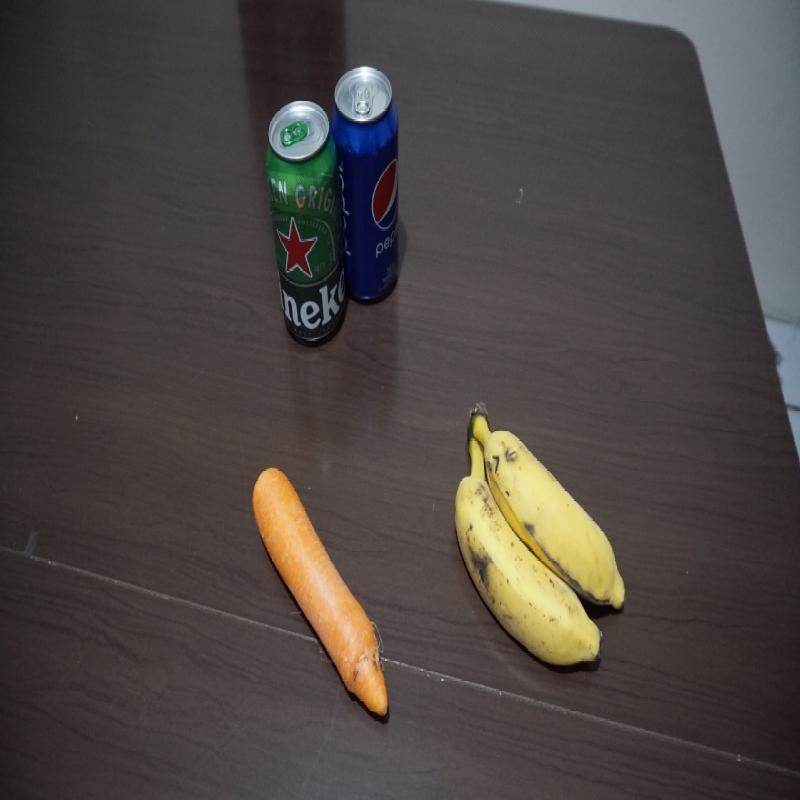Banana: (452, 404, 627, 672)
Beer can: (266, 100, 346, 348)
Carrot: (251, 465, 390, 724)
Soda can: (331, 65, 400, 302)
